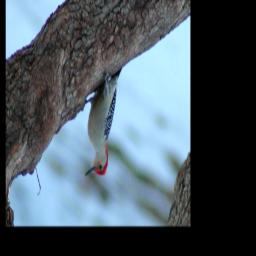Woodpecker: (83, 65, 123, 178)
